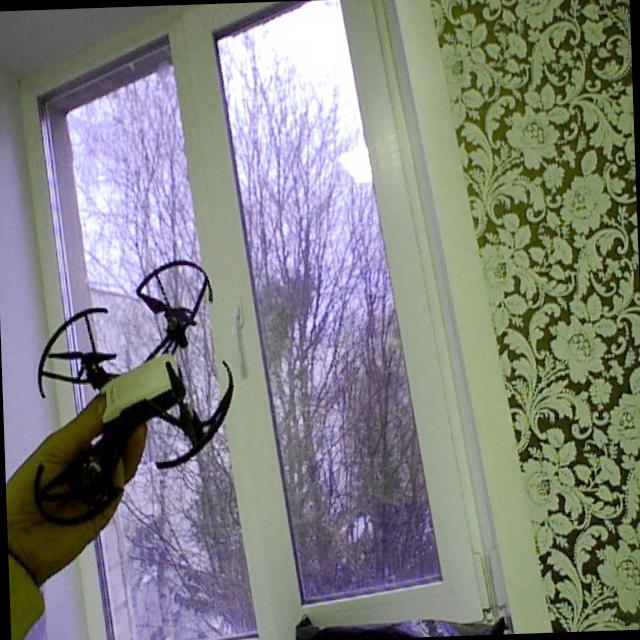drone: (25, 250, 247, 511)
